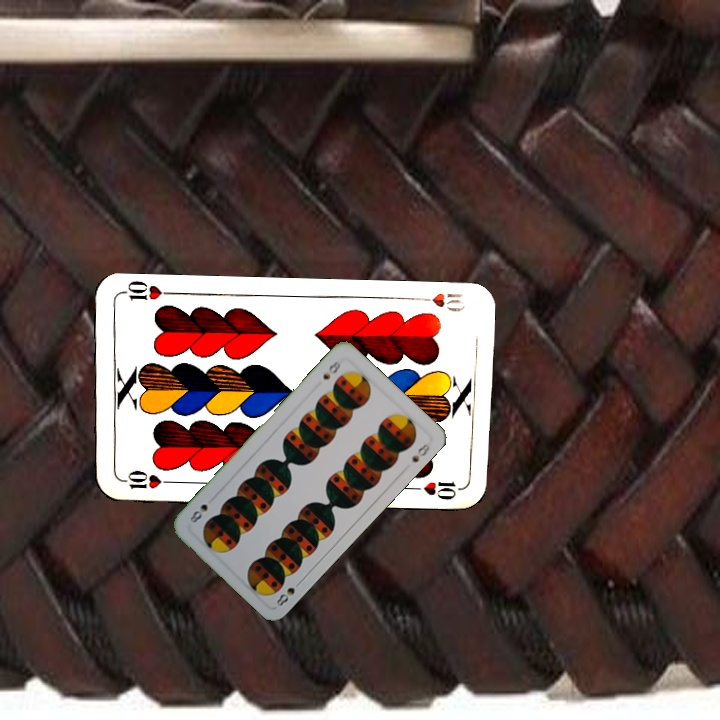H10: (410, 288, 468, 315), (115, 466, 174, 492)
S8: (272, 576, 305, 609), (318, 355, 344, 382)
